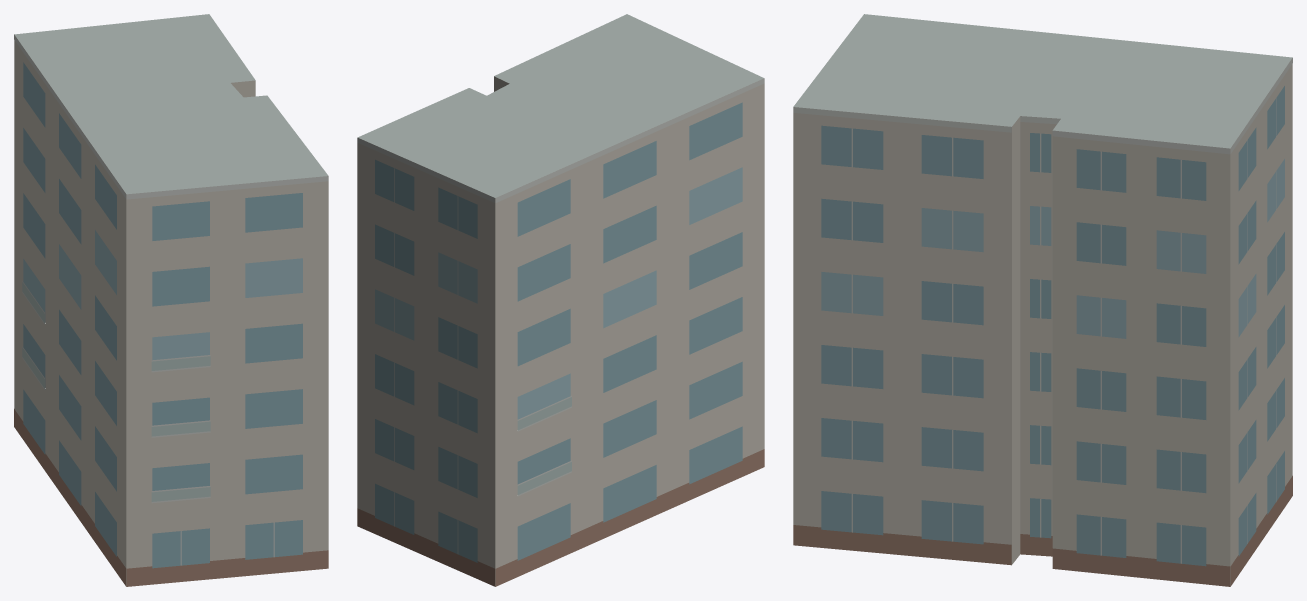
Rendered from survey-upis-32532286.glb.
3 views of the same model, side by side, from view 1: azimuth 30°, elevation 25°; view 2: azimuth 150°, elevation 25°; view 3: azimuth 270°, elevation 25° (orthographic). The views are drawn at different scales.
Visible parts, largest first — view 1: survey-upis-32532286.tmp; view 2: survey-upis-32532286.tmp; view 3: survey-upis-32532286.tmp.
Part boxes in pixels (x1=…): survey-upis-32532286.tmp: x1=14, y1=14, x2=328, y2=586; survey-upis-32532286.tmp: x1=357, y1=14, x2=764, y2=586; survey-upis-32532286.tmp: x1=793, y1=14, x2=1292, y2=586.
Size of the model in its own units: 12.06 by 18.3 by 18.91.
